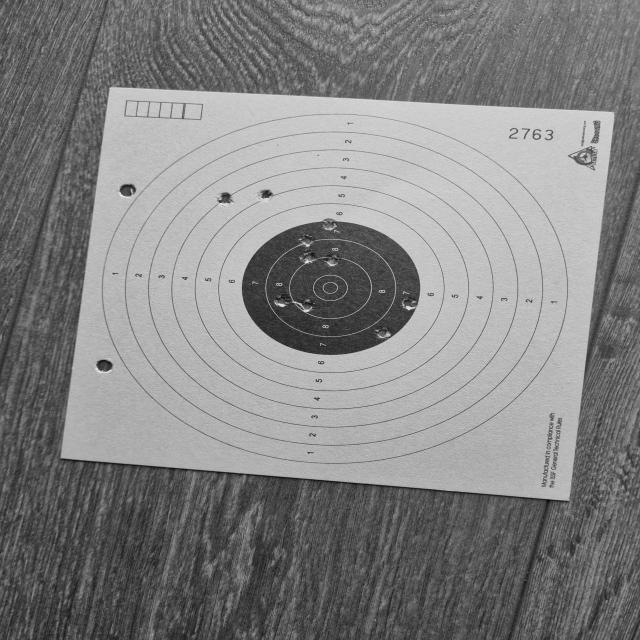4: (215, 192, 234, 205)
5: (256, 189, 274, 201)
7: (402, 297, 418, 311), (374, 327, 392, 339), (322, 218, 336, 230)
8: (273, 294, 289, 308), (298, 234, 314, 247)
9: (292, 299, 314, 312), (299, 250, 316, 264), (322, 254, 340, 266)
Target: (101, 113, 568, 464)
black_contour: (242, 222, 420, 356)
